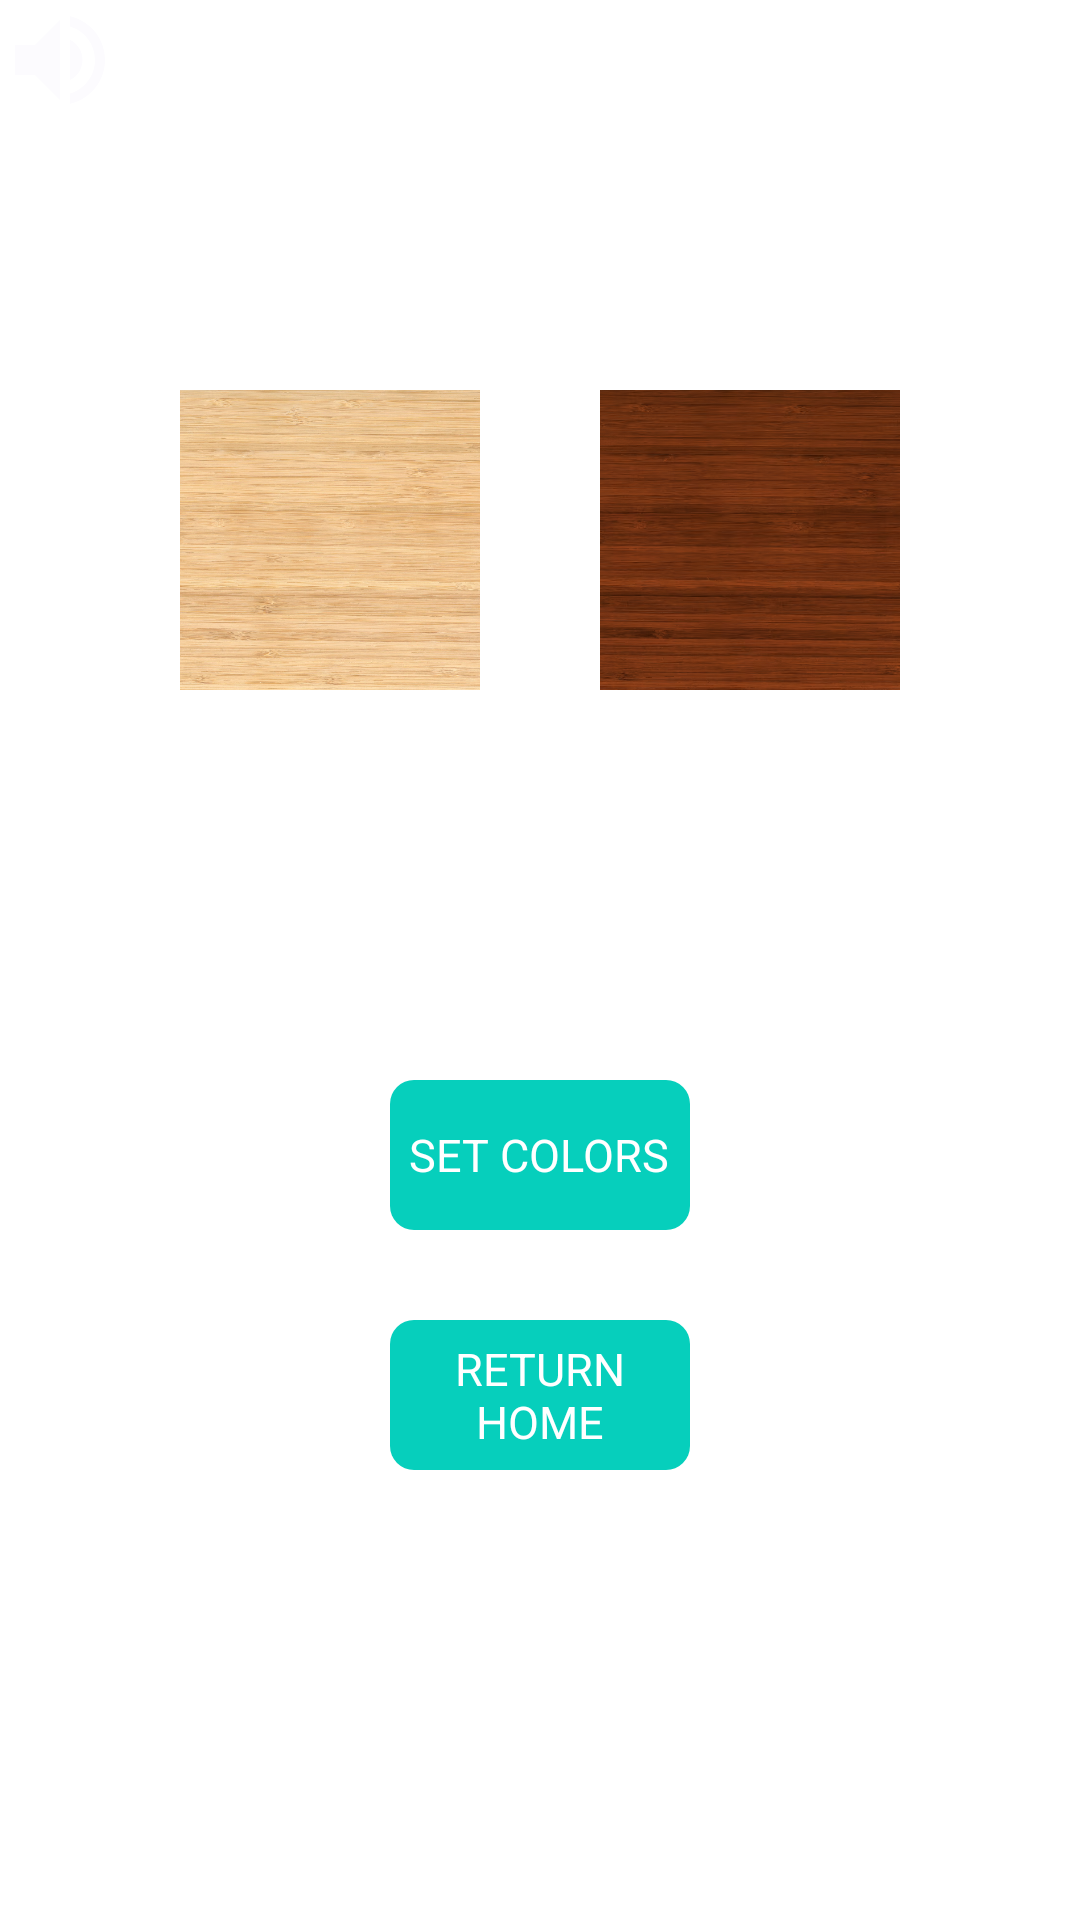

Icon bounding boxes for this 1080*1920 phone screenshot, format detection(x1, y1, x2, y2):
brighttile: detection(180, 390, 480, 690)
browntile: detection(600, 390, 900, 690)
